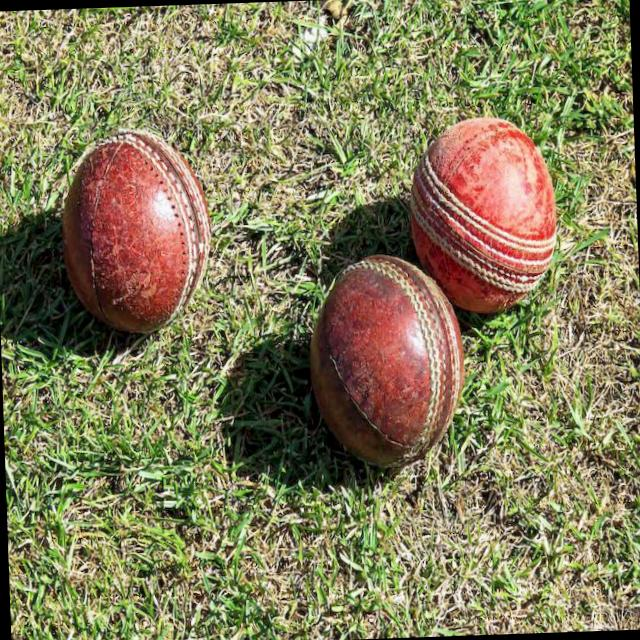ball: (298, 242, 469, 477)
